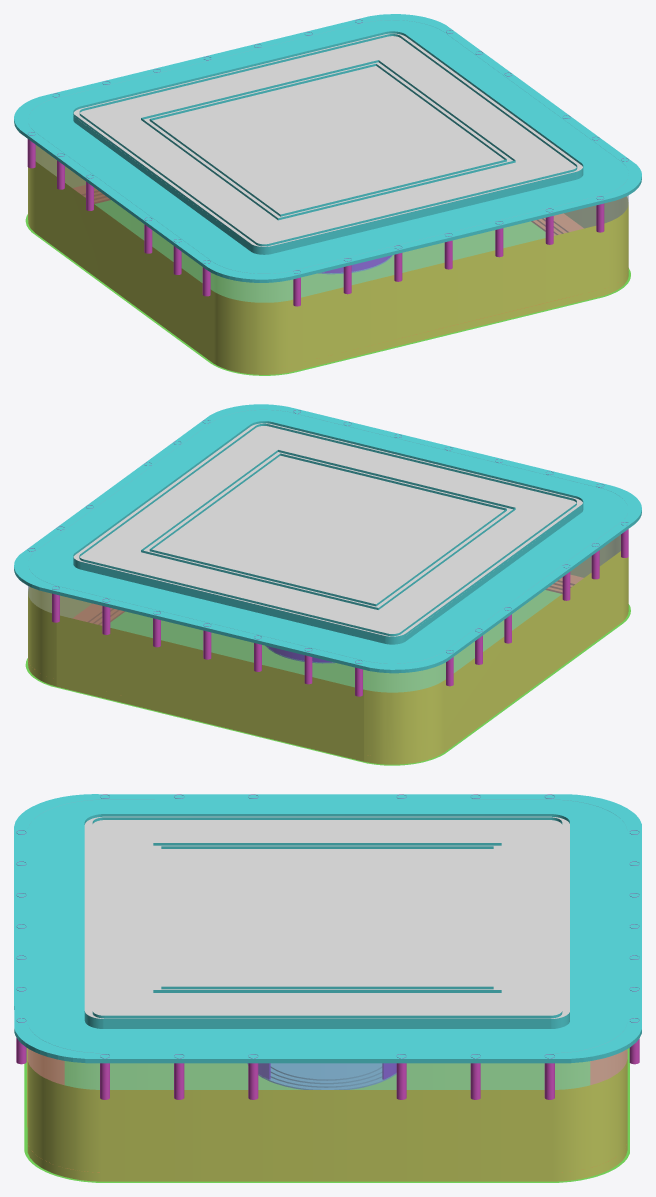
Rendered from Meta Verse.fbx.
3 renders of one model, top to bottom at view 1: azimuth 30°, elevation 25°; view 2: azimuth 150°, elevation 25°; view 3: azimuth 270°, elevation 25°, orthographic. The views are drawn at different scales.
Parts seen in each view (by area): view 1: Lights, Ceiling, Wall, Glass, Floor, Colloms, Seats; view 2: Lights, Ceiling, Wall, Glass, Floor, Colloms, Seats; view 3: Lights, Ceiling, Wall, Glass, Floor, Colloms, Stairs, Seats.
Boxes of the visible parts, x1,y1,x2,y2 form: Lights: (73, 33, 582, 246); Ceiling: (14, 14, 641, 282); Wall: (28, 145, 628, 374); Glass: (31, 20, 628, 302); Floor: (25, 200, 630, 375); Colloms: (27, 19, 628, 306); Seats: (72, 185, 628, 337); Lights: (73, 423, 582, 636); Ceiling: (14, 404, 641, 673); Wall: (28, 535, 628, 764); Glass: (28, 409, 622, 692); Floor: (25, 590, 630, 765); Colloms: (28, 410, 628, 696); Seats: (28, 575, 583, 669); Lights: (84, 816, 569, 1018); Ceiling: (14, 794, 641, 1063); Wall: (27, 1059, 627, 1181); Glass: (27, 799, 627, 1089); Floor: (24, 1048, 629, 1182); Colloms: (16, 794, 639, 1099); Stairs: (247, 1063, 396, 1089); Seats: (27, 1048, 627, 1172).
Bounding box in the file's own units: 1902 × 464 × 1907.
